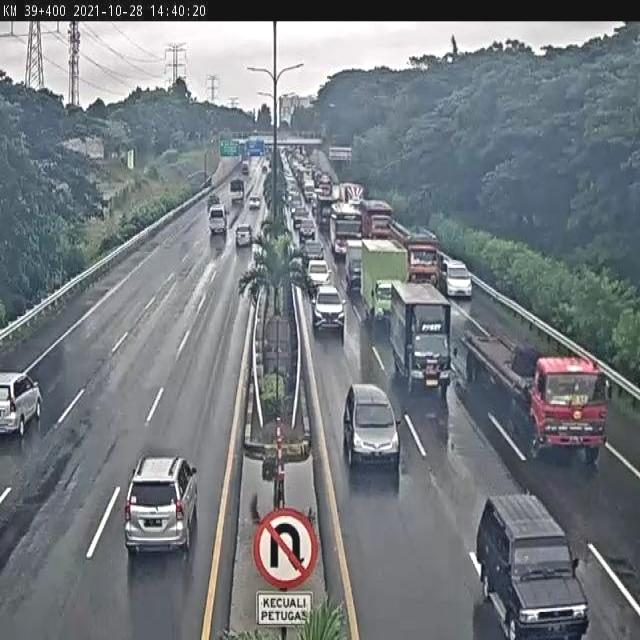Bus: (330, 202, 362, 258)
Car: (475, 490, 590, 640), (123, 454, 199, 554), (342, 384, 402, 478), (0, 370, 42, 436), (312, 284, 346, 336), (306, 258, 331, 292), (302, 240, 325, 266), (291, 205, 309, 230), (298, 218, 316, 241), (235, 224, 252, 247), (249, 195, 261, 210)
Truck: (459, 335, 613, 464), (386, 281, 452, 396), (359, 239, 406, 326), (390, 227, 440, 285), (360, 199, 393, 241), (315, 188, 339, 233), (230, 179, 244, 202)
Van: (440, 258, 472, 300), (208, 204, 228, 234)
